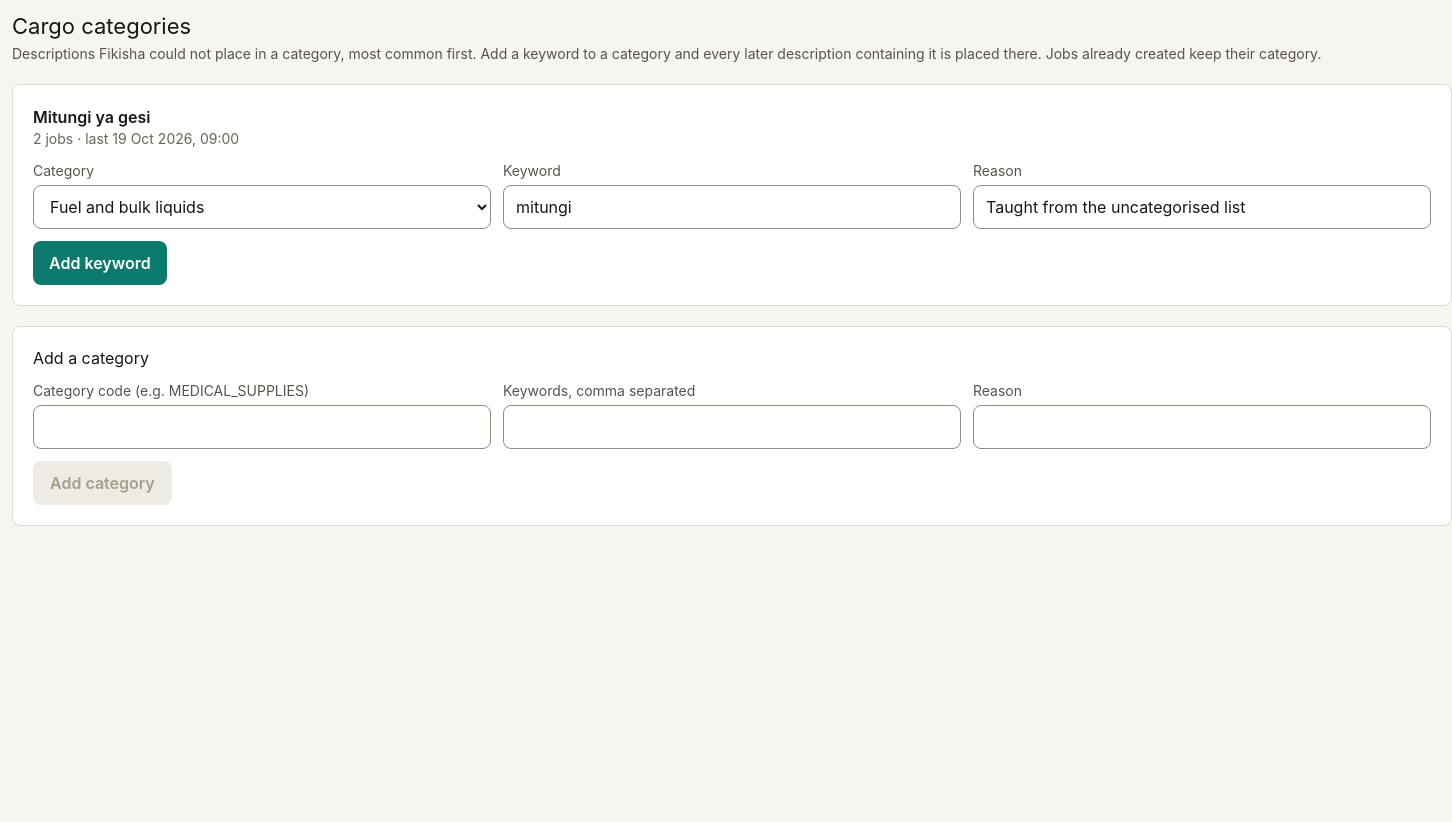
CargoCategoriesPage (assessment 2026-10-19 D-5) › lists what could not be placed and teaches a keyword
Expected: the text "Mitungi ya gesi" is shown, x1=33 y1=107 x2=150 y2=127
Expected: the text "2 jobs · last 19 Oct 2026, 09:00" is shown, x1=33 y1=130 x2=239 y2=147
Replace the text in the field labelled "Keyword" with "gesi" at coordinates (732, 207), box x1=503 y1=185 x2=961 y2=229
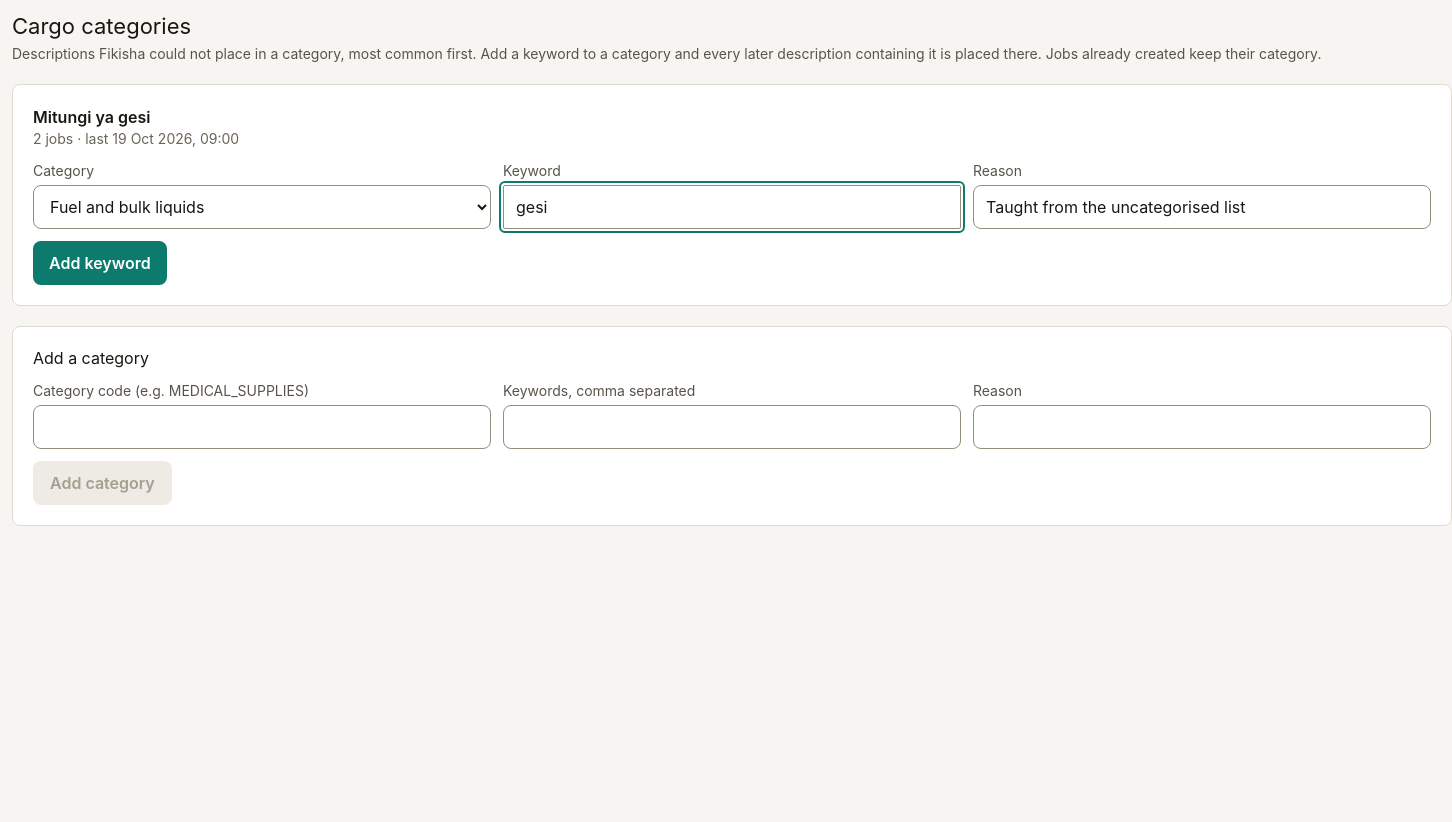
Click the button "Add keyword" at coordinates (100, 263), box x1=33 y1=241 x2=167 y2=285
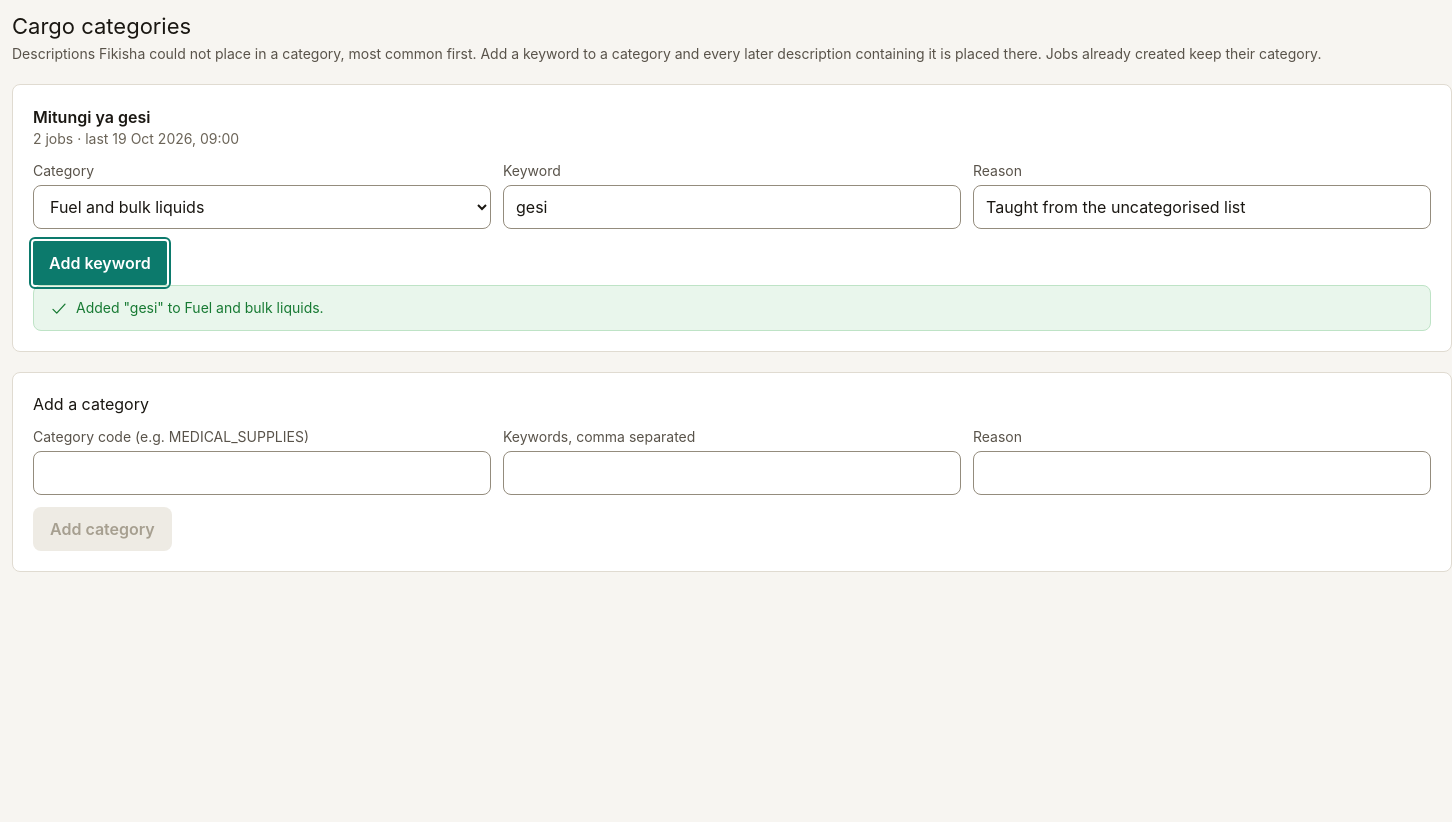
Now the text "Added \"gesi\" to Fuel and bulk liquids." is shown, box x1=76 y1=298 x2=324 y2=318
